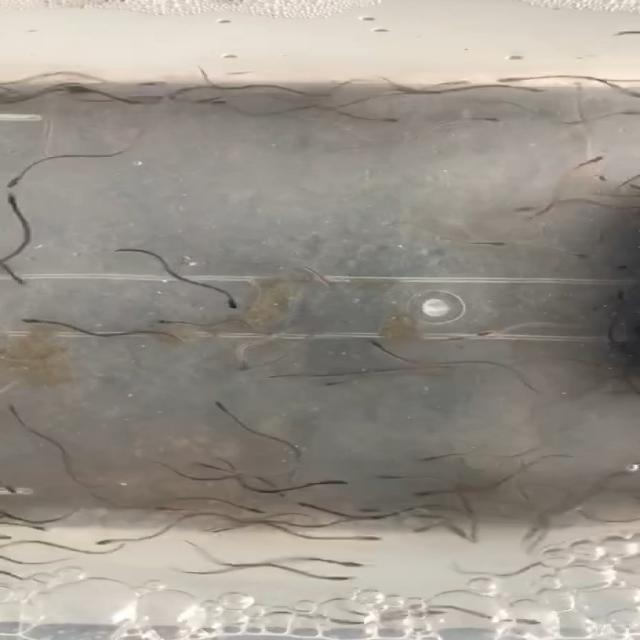active_glass_eel: (403, 485, 460, 502), (10, 313, 59, 332), (144, 499, 204, 514), (404, 607, 453, 623), (408, 451, 458, 466), (44, 80, 88, 97), (0, 190, 34, 212), (96, 530, 132, 550), (0, 477, 34, 498), (0, 169, 32, 191), (140, 316, 184, 332), (204, 401, 241, 420), (554, 244, 593, 262), (501, 614, 551, 628), (478, 236, 524, 251), (361, 336, 399, 354), (344, 531, 392, 545), (355, 504, 396, 520), (360, 110, 400, 126), (186, 462, 230, 476), (19, 522, 63, 536), (373, 468, 420, 481), (459, 110, 502, 124), (307, 378, 350, 392), (117, 77, 167, 89), (229, 501, 269, 516), (605, 286, 631, 309), (215, 290, 244, 310), (434, 75, 470, 91), (573, 155, 611, 170), (186, 96, 229, 109), (0, 267, 26, 288), (234, 359, 264, 377), (464, 327, 507, 339), (490, 72, 532, 84), (292, 500, 327, 514), (3, 403, 26, 424), (322, 558, 369, 568), (506, 203, 552, 213), (318, 574, 364, 584), (584, 166, 611, 183), (318, 477, 350, 488), (605, 260, 633, 272), (0, 530, 18, 546)
